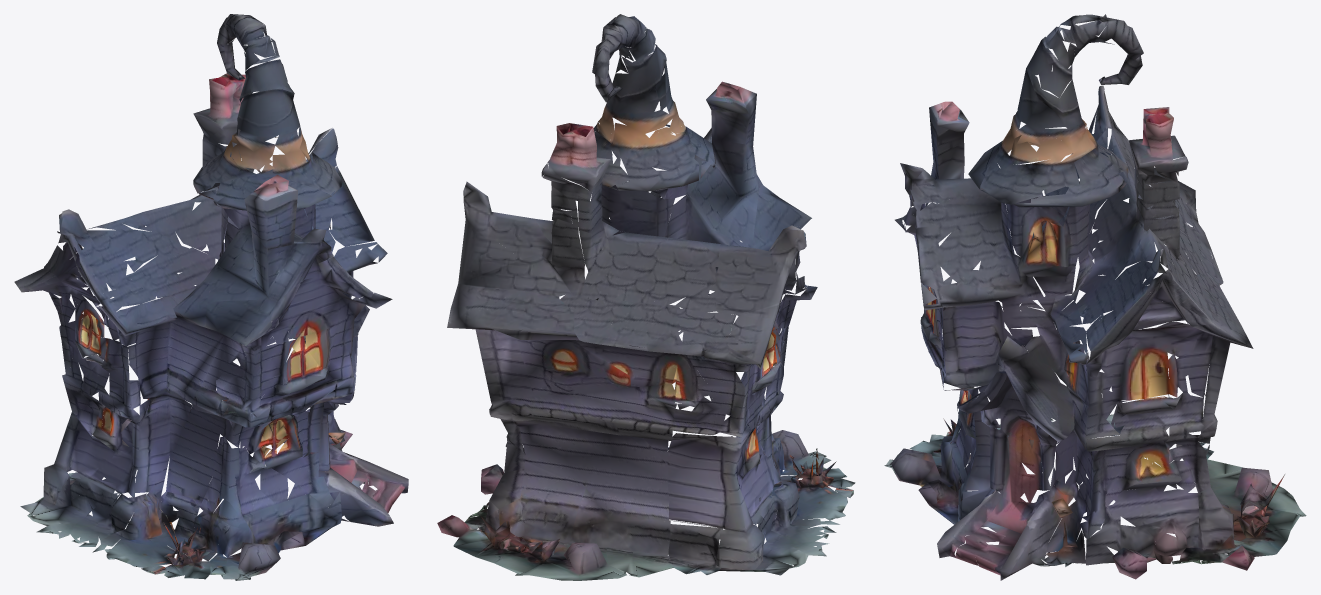
Rendered from witch_house.glb.
3 renders of one model, left to right at view 1: azimuth 30°, elevation 25°; view 2: azimuth 150°, elevation 25°; view 3: azimuth 270°, elevation 25°, orthographic. The views are drawn at different scales.
Parts seen in each view (by area): view 1: Object_4; view 2: Object_4; view 3: Object_4.
Part boxes in pixels (x1,y1,x2,y2): Object_4: (14, 14, 408, 580); Object_4: (437, 14, 855, 580); Object_4: (884, 14, 1306, 580).
Size of the model in its own units: 0.7408 by 0.9951 by 0.7539.
Materials: 1 (1 with a texture image).
